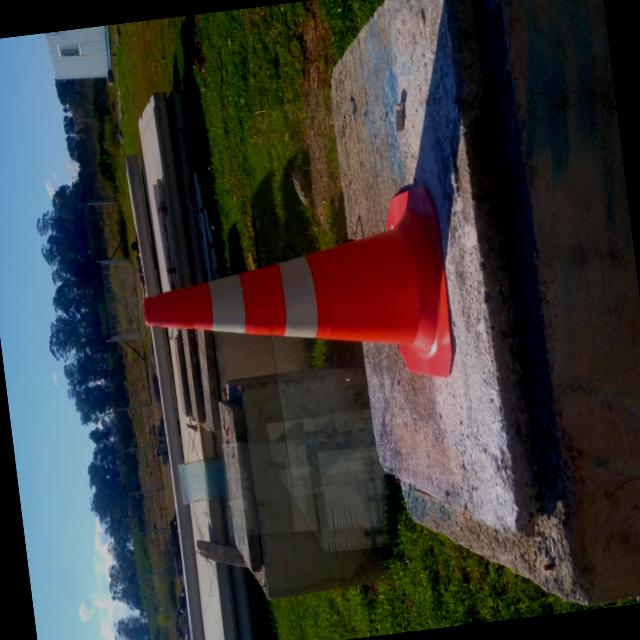cone: (130, 176, 462, 420)
